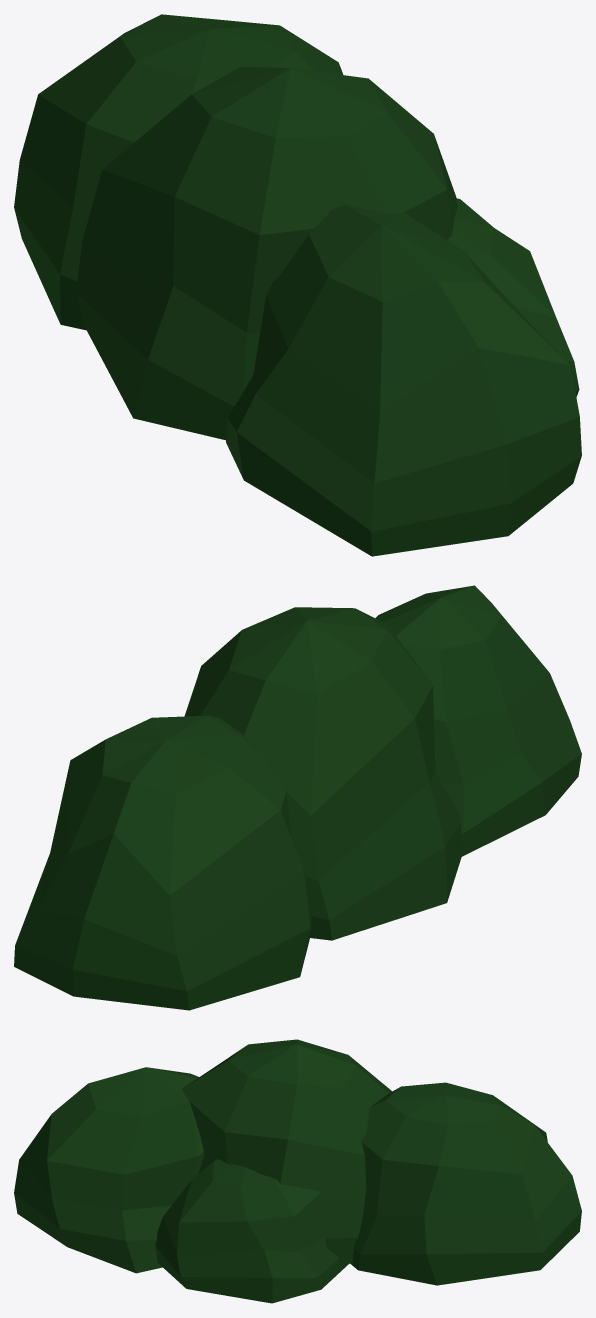
The model's file is bush.glb.
The picture shows the model from 3 angles, top to bottom: view 1: azimuth 30°, elevation 25°; view 2: azimuth 150°, elevation 25°; view 3: azimuth 270°, elevation 25°; orthographic projection. The views are drawn at different scales.
Parts seen in each view (by area): view 1: Model; view 2: Model; view 3: Model.
Boxes of the visible parts, x1=… form: Model: x1=14, y1=14, x2=581, y2=556; Model: x1=14, y1=585, x2=581, y2=1010; Model: x1=14, y1=1039, x2=581, y2=1303.
Bounding box in the file's own units: 1.34 × 1.1 × 2.82.
